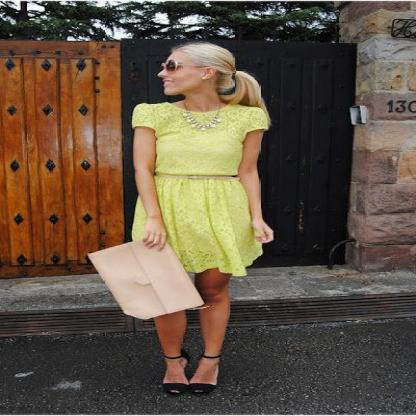bag: (87, 236, 204, 319)
dress: (132, 102, 269, 276)
shoe: (188, 383, 219, 397)
